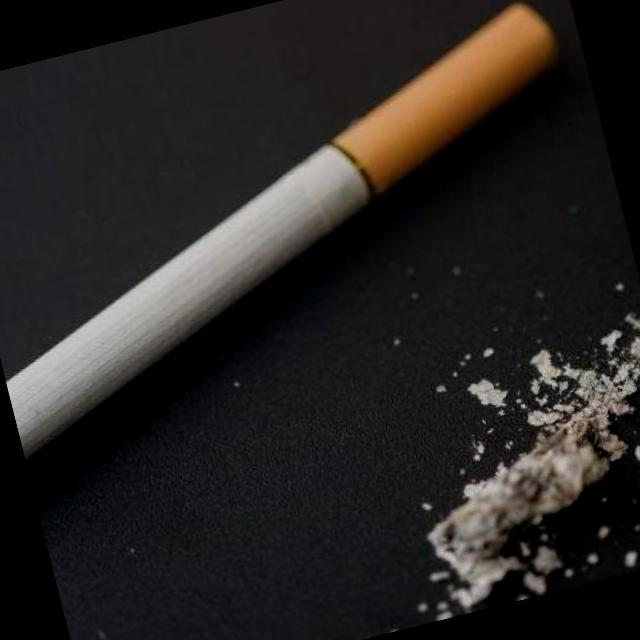cigarette: (0, 0, 628, 479)
